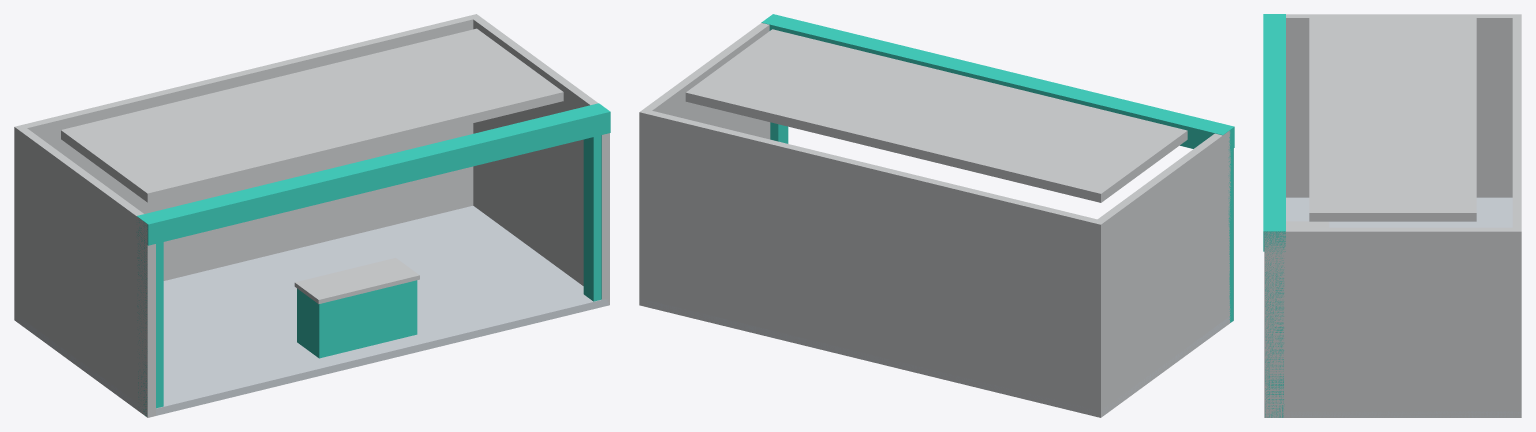
3 renders of one model, left to right at view 1: azimuth 30°, elevation 25°; view 2: azimuth 150°, elevation 25°; view 3: azimuth 270°, elevation 25°, orthographic. The views are drawn at different scales.
Parts seen in each view (by area): view 1: Exhibition Booth Concept; view 2: Exhibition Booth Concept; view 3: Exhibition Booth Concept.
Boxes of the visible parts, x1,y1,x2,y2 form: Exhibition Booth Concept: [14, 14, 610, 417]; Exhibition Booth Concept: [639, 14, 1234, 417]; Exhibition Booth Concept: [1263, 14, 1521, 417].
Bounding box in the file's own units: 8 × 3.34 × 4.02.
